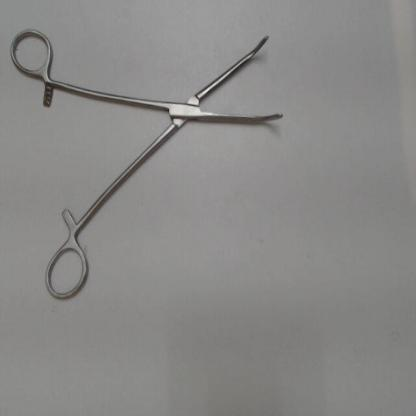Lahey Forceps: (5, 22, 293, 310)
